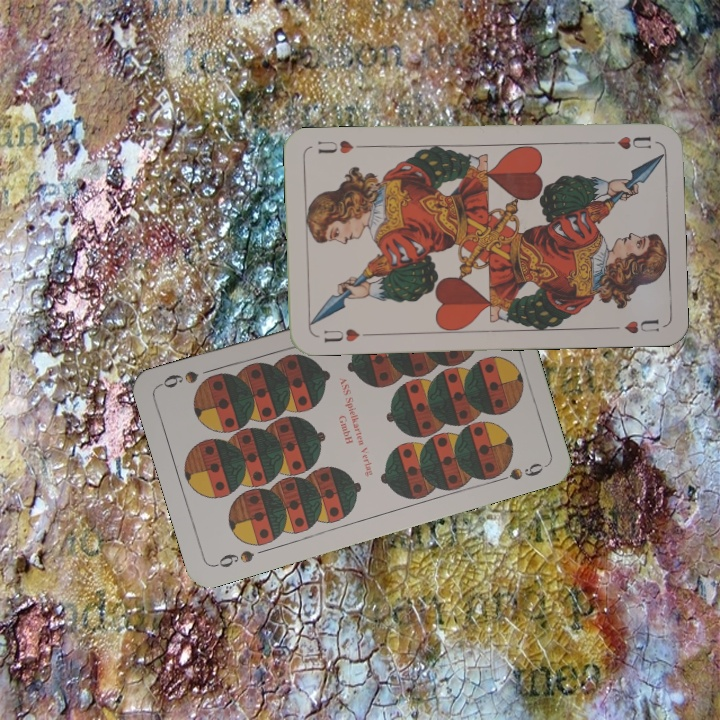HU: (598, 132, 654, 152), (320, 324, 362, 345)
S9: (210, 546, 257, 570)
